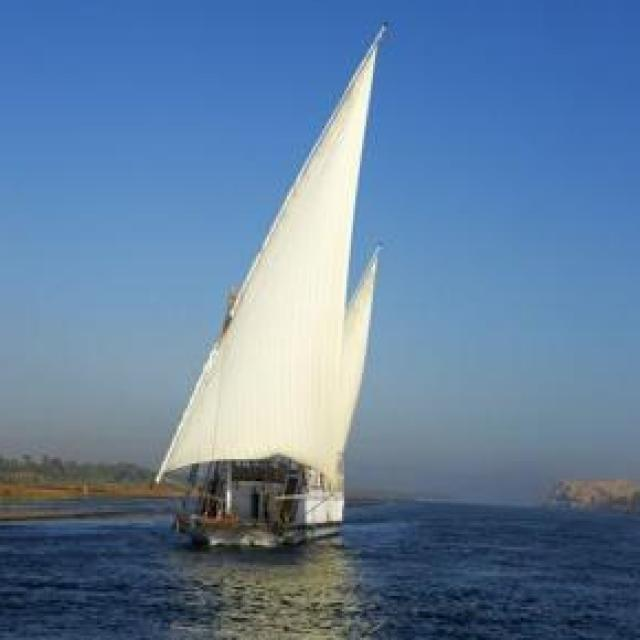sailboat: (160, 13, 388, 550)
